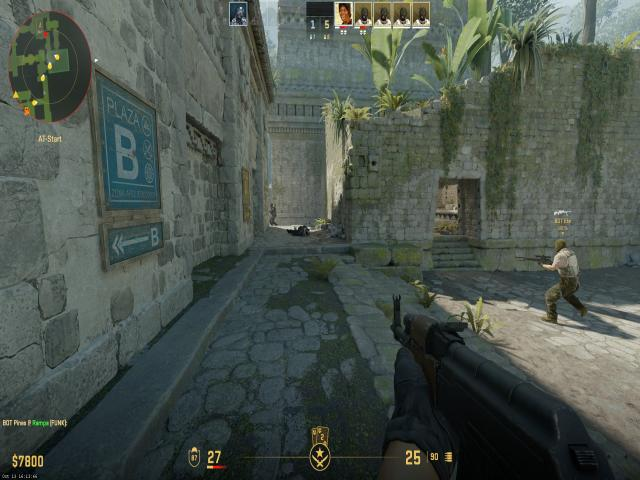CT: (269, 197, 277, 229)
CT-Head: (269, 198, 276, 208)
T: (550, 232, 582, 326)
T-Head: (554, 236, 570, 254)
